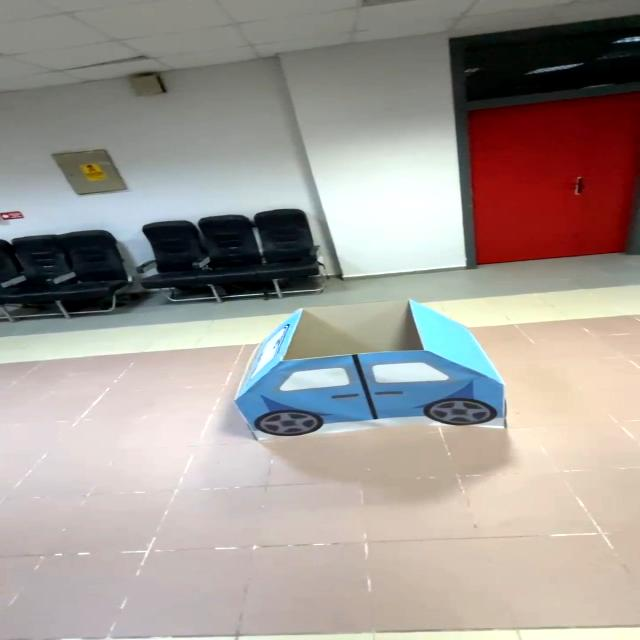blue_car: (210, 287, 513, 459)
